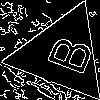B: (36, 29, 95, 77)
